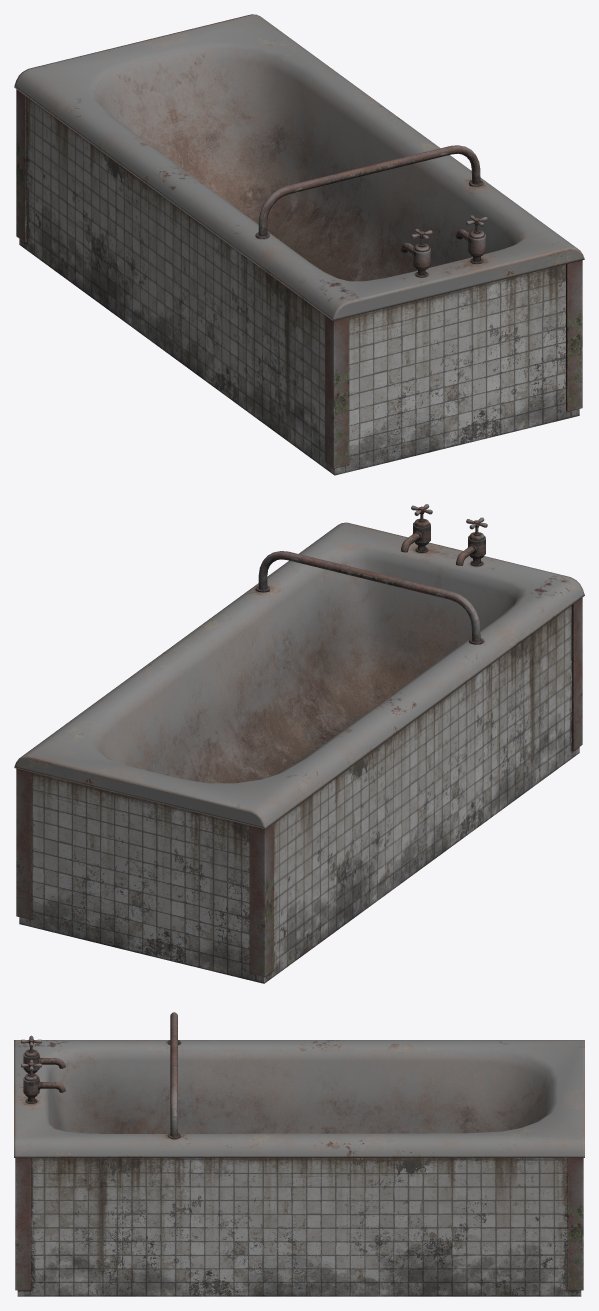
File: SM_Bath01_LOD0.glb
3 views of the same model, one above another, from view 1: azimuth 30°, elevation 25°; view 2: azimuth 150°, elevation 25°; view 3: azimuth 270°, elevation 25° (orthographic). The views are drawn at different scales.
Visible parts, largest first — view 1: SM_Bath01_LOD0; view 2: SM_Bath01_LOD0; view 3: SM_Bath01_LOD0.
Boxes of the visible parts, box(x1,y1,x2,y2) form: SM_Bath01_LOD0: box(14, 14, 584, 475); SM_Bath01_LOD0: box(14, 504, 584, 983); SM_Bath01_LOD0: box(14, 1012, 584, 1296).
Bounding box in the file's own units: 1.14 × 0.9306 × 2.5.
1 material, 1 textured.
